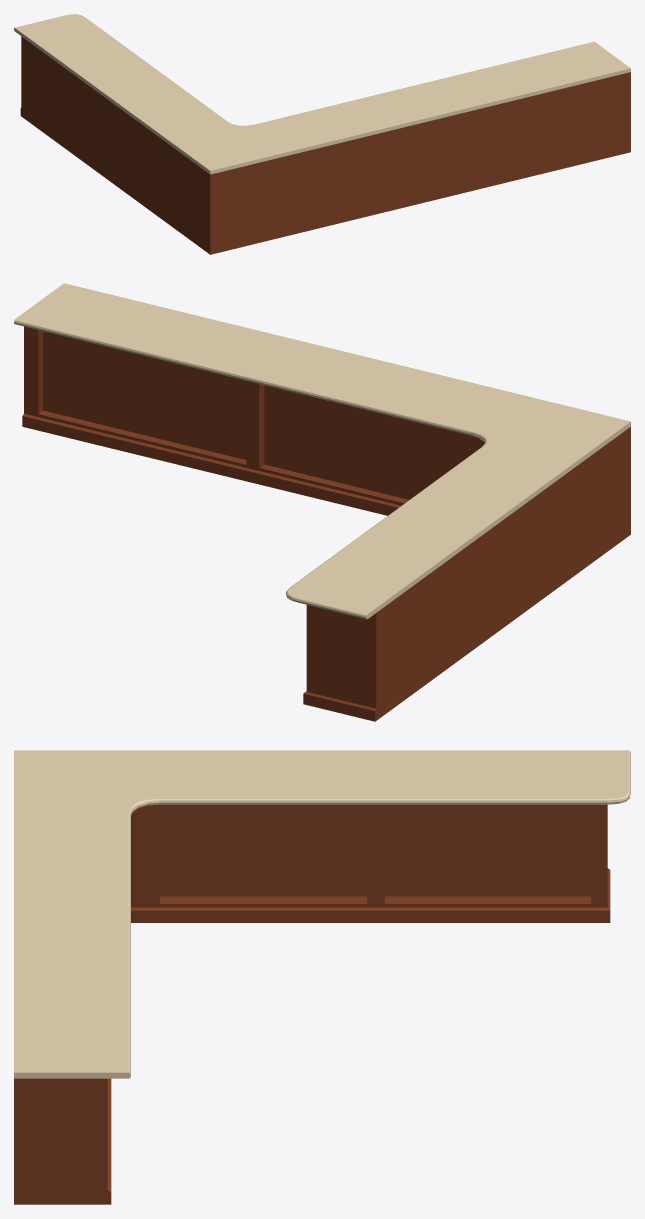
The model's file is Restaurant_Mesada_NoTextures.fbx.
3 views of the same model, one above another, from view 1: azimuth 30°, elevation 25°; view 2: azimuth 150°, elevation 25°; view 3: azimuth 270°, elevation 25° (orthographic). The views are drawn at different scales.
Parts seen in each view (by area): view 1: m_Mesada_01; view 2: m_Mesada_01; view 3: m_Mesada_01.
Part boxes in pixels (x1,y1,x2,y2): m_Mesada_01: [14, 14, 630, 254]; m_Mesada_01: [14, 283, 630, 721]; m_Mesada_01: [14, 750, 630, 1204].
Bounding box in the file's own units: 1098 × 209 × 887.
